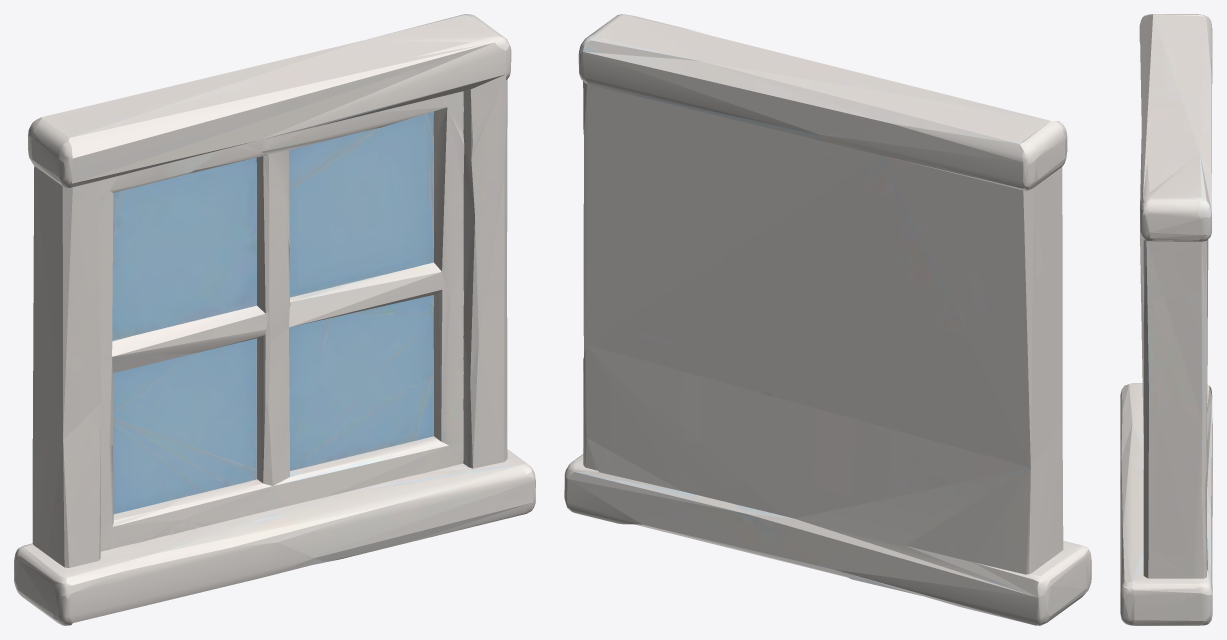
Rendered from window.glb.
3 views of the same model, side by side, from view 1: azimuth 30°, elevation 25°; view 2: azimuth 150°, elevation 25°; view 3: azimuth 270°, elevation 25° (orthographic). The views are drawn at different scales.
Visible parts, largest first — view 1: window-basic-fit; view 2: window-basic-fit; view 3: window-basic-fit.
Part boxes in pixels (<box>): window-basic-fit: <box>14,14,535,625</box>; window-basic-fit: <box>564,14,1091,625</box>; window-basic-fit: <box>1120,14,1212,625</box>.
Size of the model in its own units: 0.3935 by 0.3742 by 0.0745.
1 material, 1 textured.
